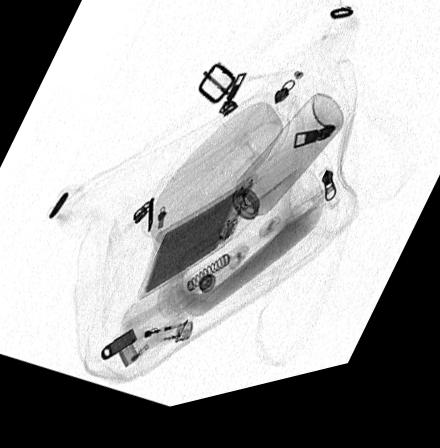Lighter: (122, 322, 194, 357)
Powerbank: (137, 185, 254, 305)
Sprayer: (211, 107, 345, 252)
